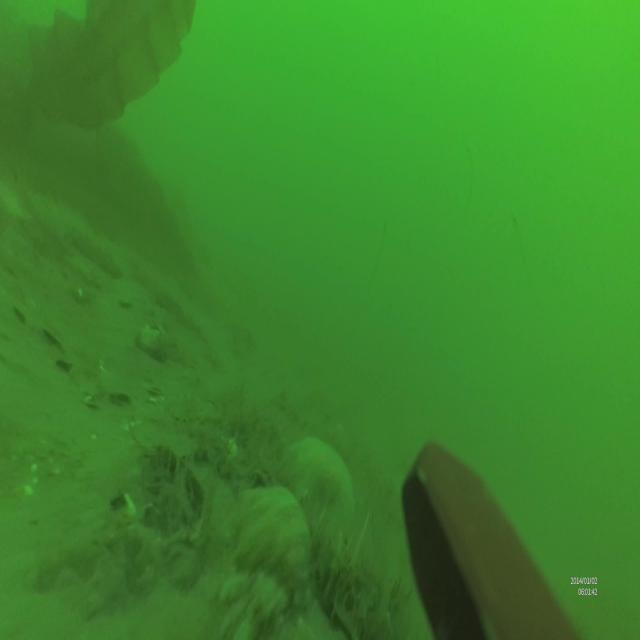starfish: (237, 486, 312, 582), (287, 431, 356, 522)
